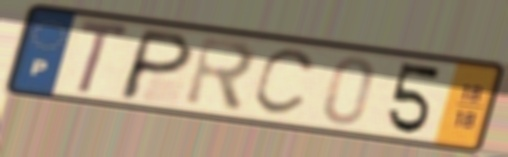0: (320, 54, 377, 128)
5: (385, 59, 443, 135)
C: (249, 47, 321, 119)
P: (114, 26, 199, 104)
R: (181, 34, 260, 117)
T: (73, 16, 135, 97)
